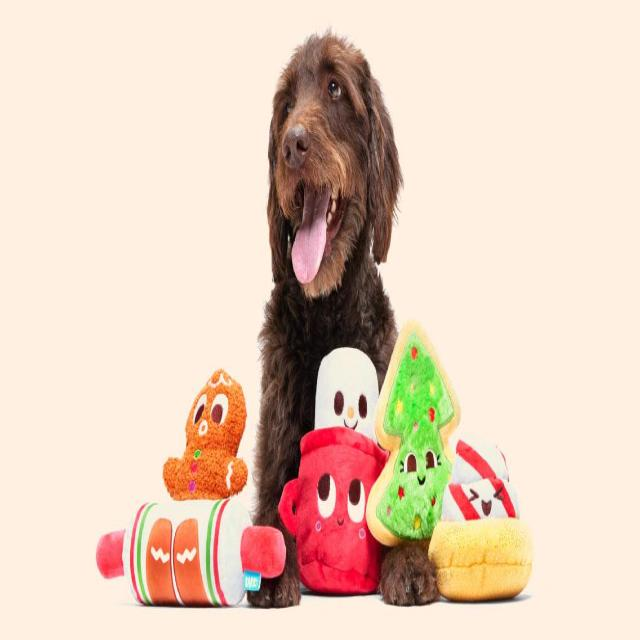Dog: (257, 34, 411, 320)
